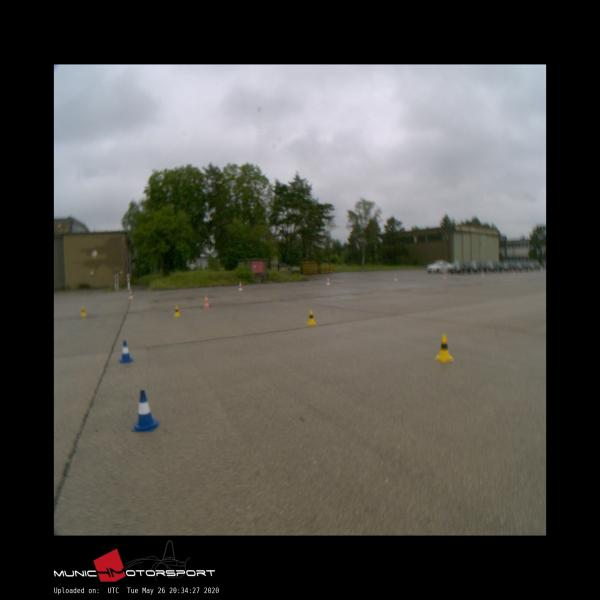blue_cone: (132, 390, 160, 430), (120, 340, 132, 362)
large_orange_cone: (204, 295, 210, 308)
yellow_cone: (436, 334, 452, 362), (306, 310, 316, 325), (173, 306, 180, 316), (81, 307, 86, 316)
